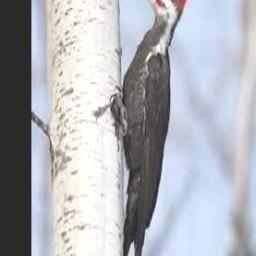Woodpecker: (114, 0, 191, 256)
